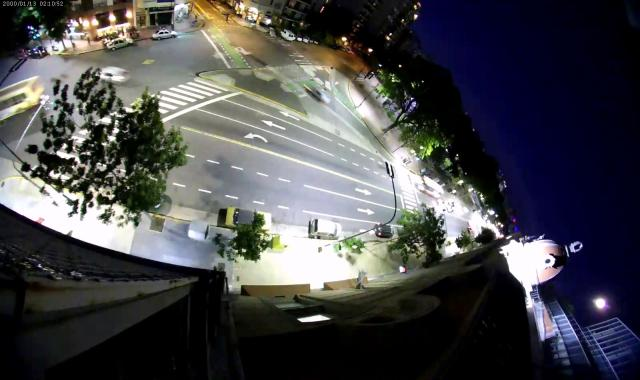bus: (0, 74, 46, 119), (416, 176, 444, 198)
car: (224, 206, 272, 232), (308, 218, 343, 239), (307, 87, 331, 104), (106, 37, 134, 51), (152, 29, 178, 41), (374, 223, 394, 238), (28, 46, 48, 60), (279, 29, 294, 42), (14, 47, 30, 58), (211, 1, 223, 10), (446, 205, 455, 214), (436, 199, 446, 207), (461, 206, 470, 213), (303, 35, 309, 44), (296, 34, 302, 42), (448, 200, 455, 206)
